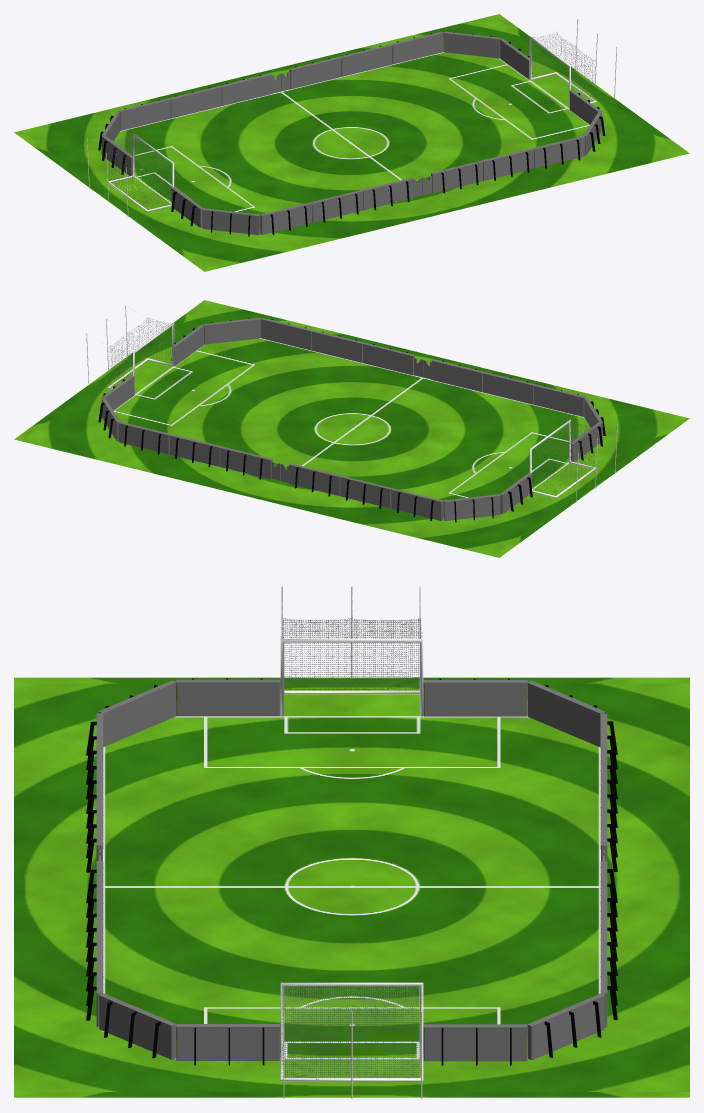
The model's file is Terrain.FBX.
3 renders of one model, top to bottom at view 1: azimuth 30°, elevation 25°; view 2: azimuth 150°, elevation 25°; view 3: azimuth 270°, elevation 25°, orthographic. The views are drawn at different scales.
Visible parts, largest first — view 1: Terrain, Box041, Box091, Box056, Box046, Box061, Box051, Box066, Box071, Plane174, Box096, Box101 (+11 smaller); view 2: Terrain, Box131, Box081, Box096, Box111, Box101, Box121, Box106, Box116, Plane003, Plane174, Box071 (+11 smaller); view 3: Terrain, Plane003, Plane174, Box076, Box086, Box126, Box036, Box081, Box091, Box131, Box041, Cylinder013 (+2 smaller).
Boxes of the visible parts, x1,y1,x2,y2 form: Terrain: (14, 14, 689, 271); Box041: (443, 35, 500, 58); Box091: (202, 212, 259, 235); Box056: (289, 60, 341, 89); Box046: (392, 35, 443, 64); Box061: (221, 77, 272, 105); Box051: (341, 48, 392, 76); Box066: (170, 89, 221, 118); Box071: (120, 102, 170, 130); Plane174: (109, 135, 172, 209); Box096: (260, 206, 312, 234); Box101: (312, 193, 363, 222); Terrain: (14, 300, 689, 557); Box131: (204, 321, 260, 344); Box081: (443, 498, 500, 520); Box096: (533, 388, 584, 416); Box111: (363, 346, 413, 375); Box101: (483, 375, 533, 404); Box121: (261, 321, 311, 350); Box106: (432, 363, 482, 392); Box116: (312, 334, 362, 362); Plane003: (109, 317, 171, 386); Plane174: (531, 422, 594, 495); Box071: (391, 492, 443, 520); Terrain: (14, 677, 689, 1097); Plane003: (281, 984, 422, 1079); Plane174: (282, 618, 422, 690); Box076: (423, 686, 527, 716); Box086: (176, 686, 280, 716); Box126: (176, 1030, 280, 1060); Box036: (423, 1031, 527, 1061); Box081: (528, 687, 600, 747); Box091: (103, 686, 175, 746); Box131: (99, 999, 175, 1059); Box041: (528, 1000, 604, 1060); Cylinder013: (280, 982, 423, 1081).
Bounding box in the file's own units: 2424 × 236 × 1627.
